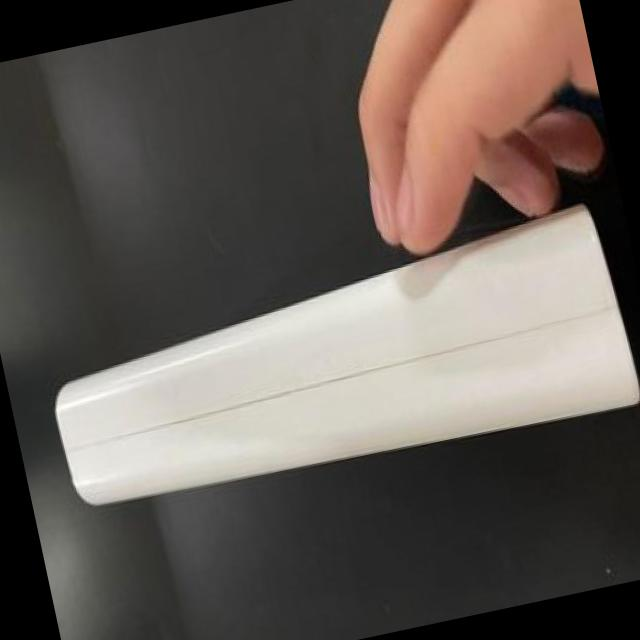portable-charger: (26, 179, 640, 592)
